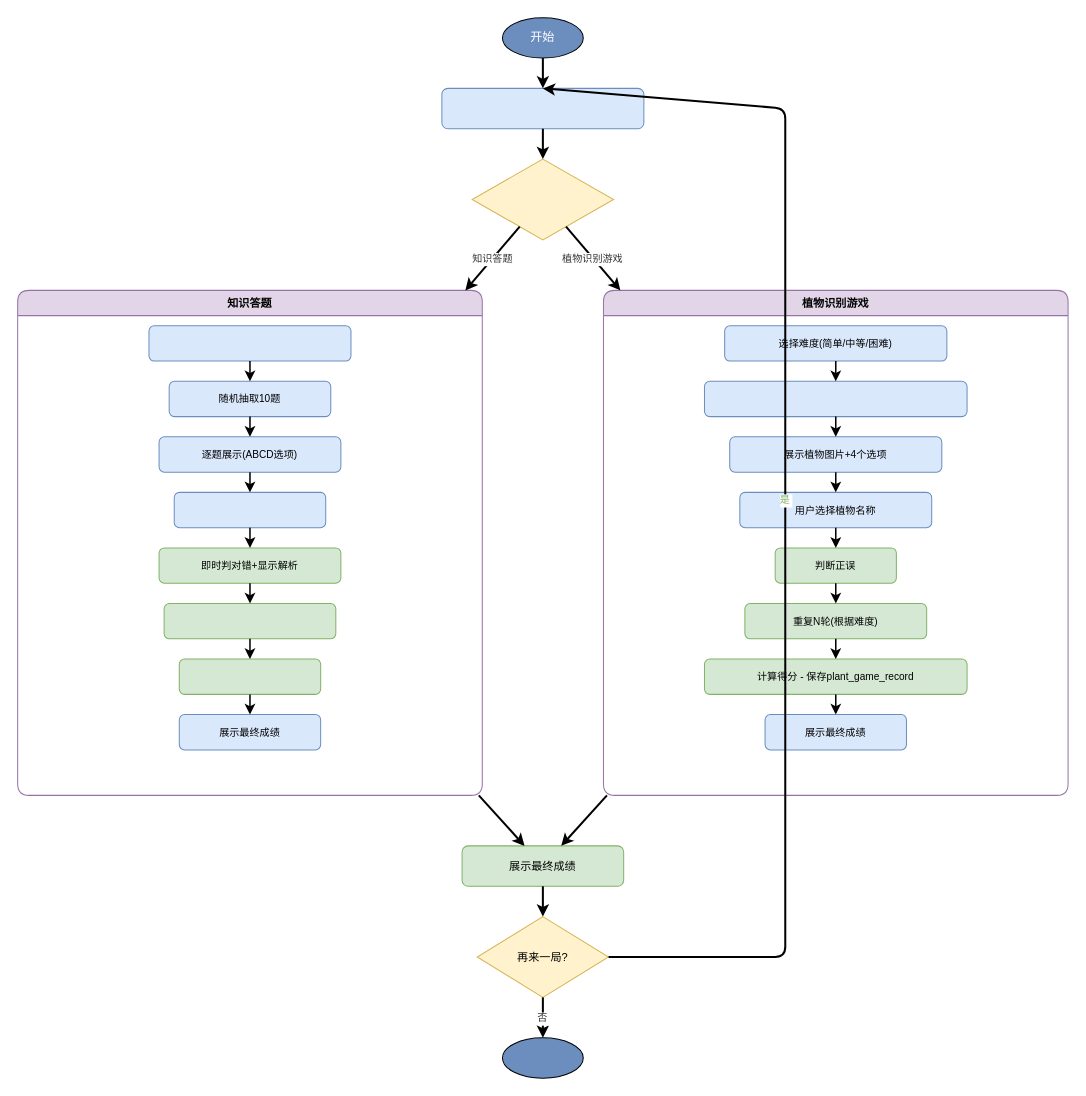
Some shapes in this 1086 by 1096 pixel diagram are drawn without their labels. The centre of each missing label's shape, as x and y in pixels:
"保存quiz_record" belongs at pixel 249 676.
"全部完成 - 计算得分" belongs at pixel 249 620.
"完成" belongs at pixel 542 1057.
"用户进入文化互动页面" belongs at pixel 542 108.
"用户选择答案" belongs at pixel 249 509.
"获取植物图片 /api/plant-game/start" belongs at pixel 835 398.
"获取题目 /api/quiz/questions" belongs at pixel 249 343.
"选择活动类型" belongs at pixel 542 199.
